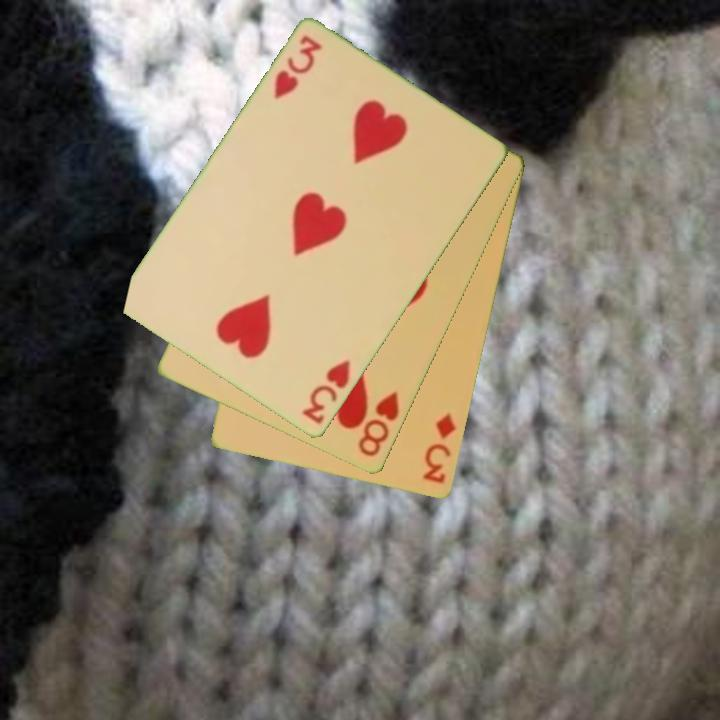3d: (419, 410, 459, 487)
3h: (299, 357, 354, 428), (270, 32, 325, 103)
8h: (354, 388, 403, 460)
